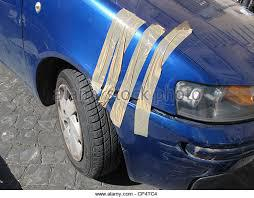front-bumper-dent: (136, 113, 252, 188)
